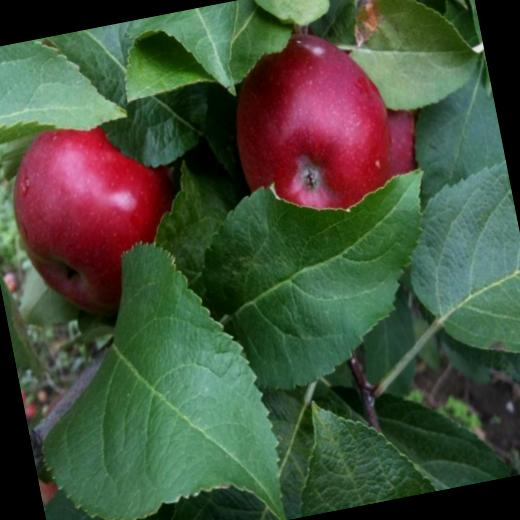Apple: (0, 104, 189, 328), (214, 16, 402, 228), (376, 96, 428, 172)
